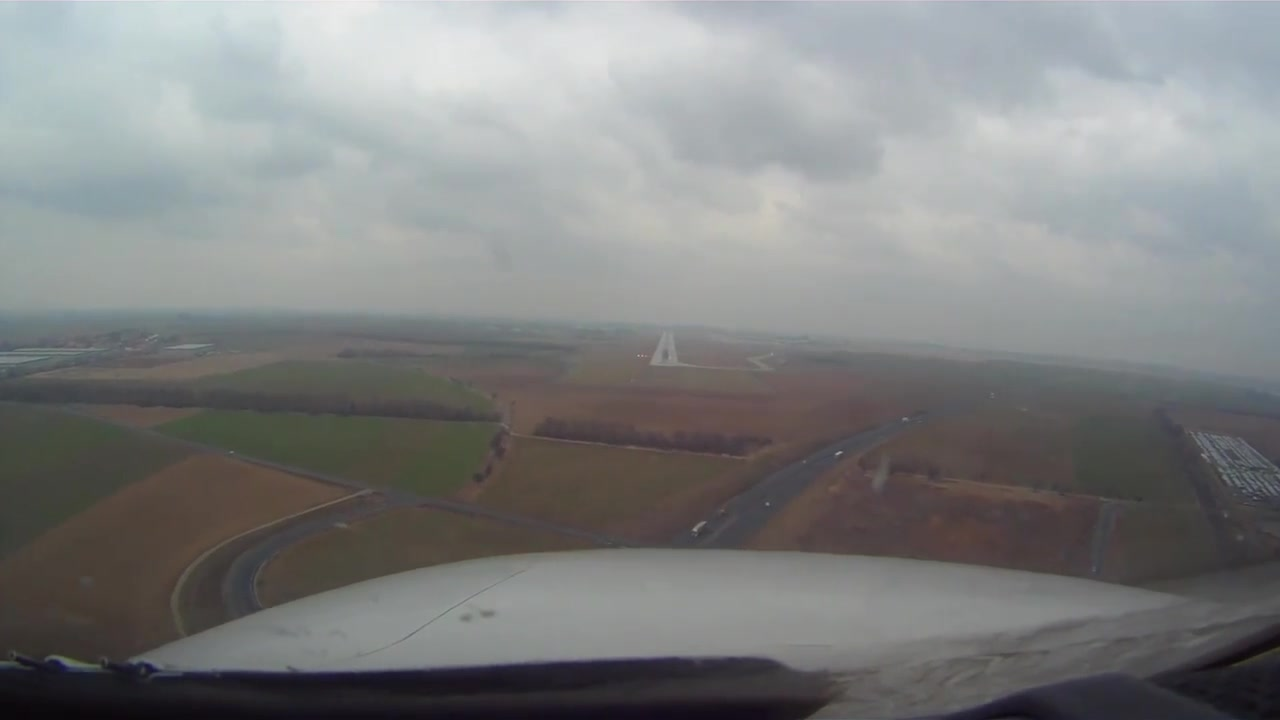runway: (647, 332, 679, 368)
